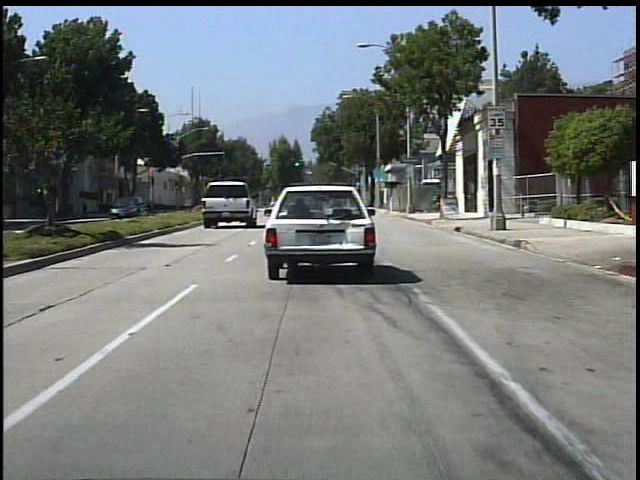person: (130, 193, 145, 216), (80, 197, 93, 219)
